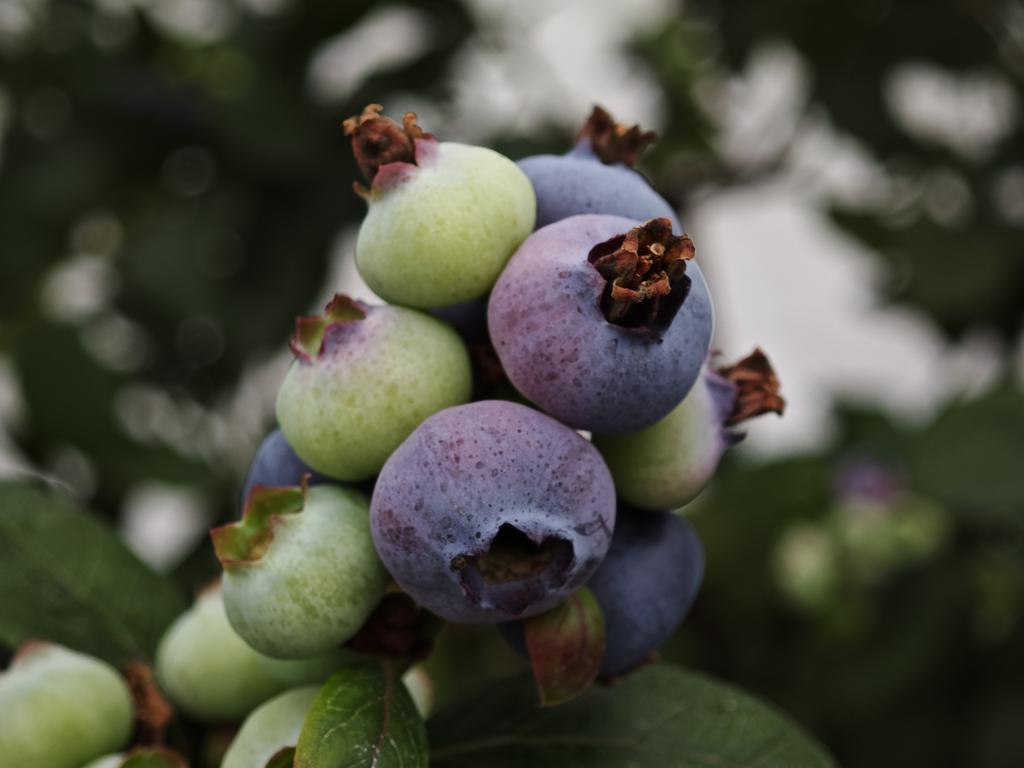Semi-RipeBlueBerry: (371, 399, 620, 624), (484, 211, 717, 421)
UnripeBlueBerry: (344, 119, 530, 300)
